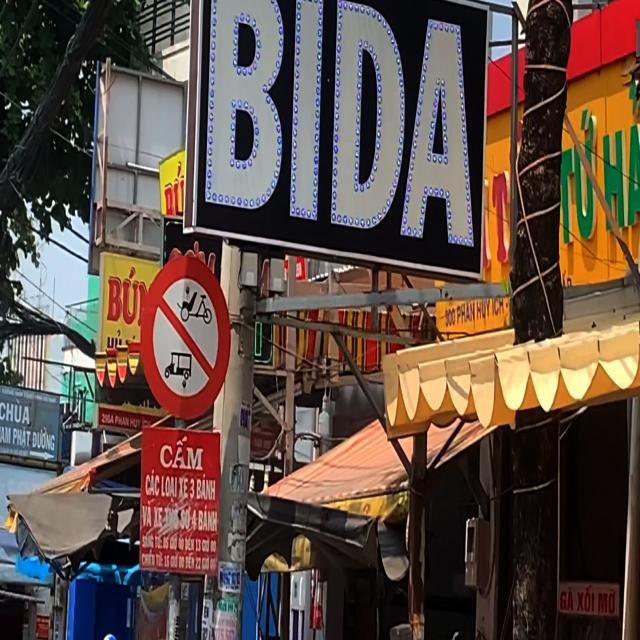Cam con lai: (140, 254, 231, 423)
